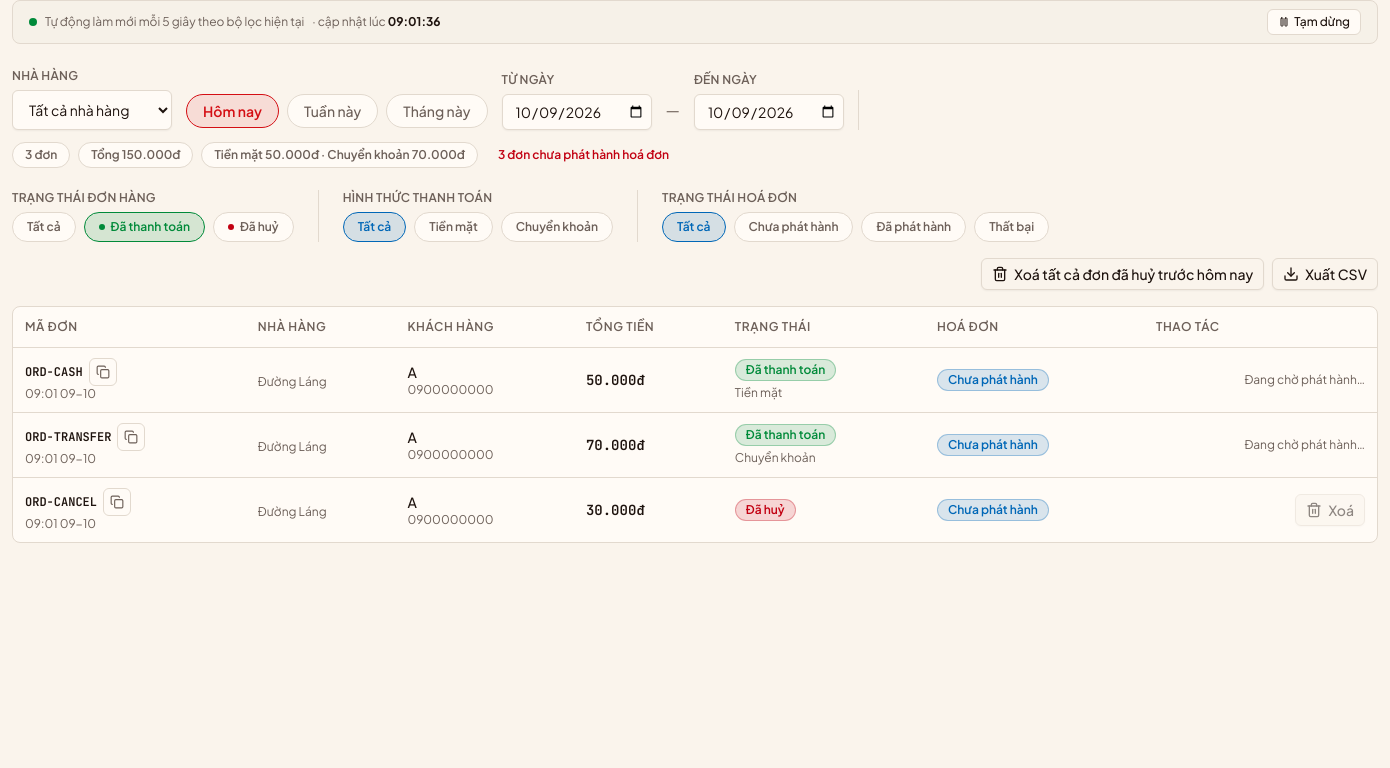
Scenario: AccountingPage enterprise accounting › filters paid orders by payment method (Tiền mặt / Chuyển khoản) and shows the method under the status
Expected: the text "ORD-CASH" is shown, [25, 364, 83, 380]
Expected: the text "ORD-CANCEL" is shown, [25, 494, 97, 510]
Click the button with test id "accounting.payment_method_filter.transfer". click: (557, 227)
box: [501, 212, 613, 242]
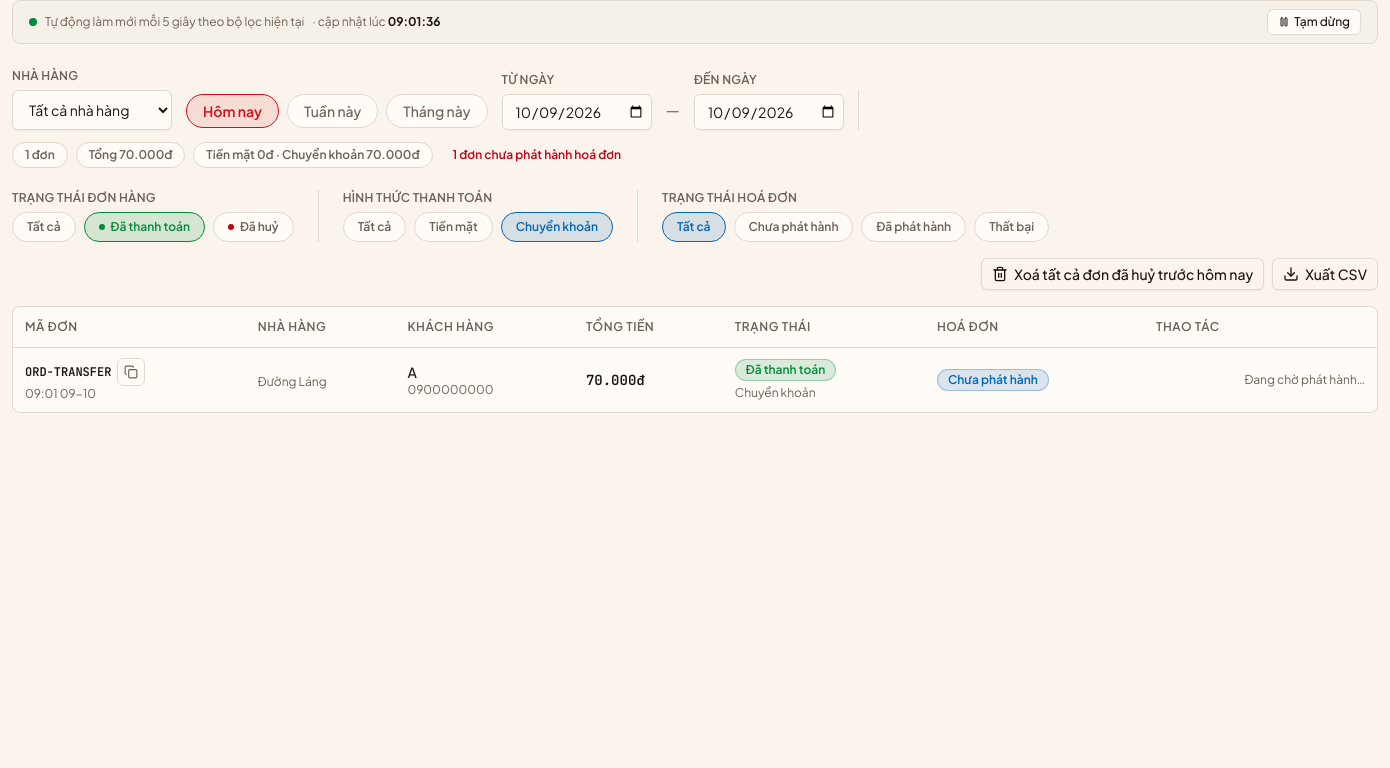
Expected: the text "ORD-TRANSFER" is shown, [25, 364, 111, 380]
Expected: the text "ORD-CASH" is gone
Expected: the text "ORD-CANCEL" is gone
Click the button with test id "accounting.payment_method_filter.cash". click: (454, 227)
box: [414, 212, 493, 242]
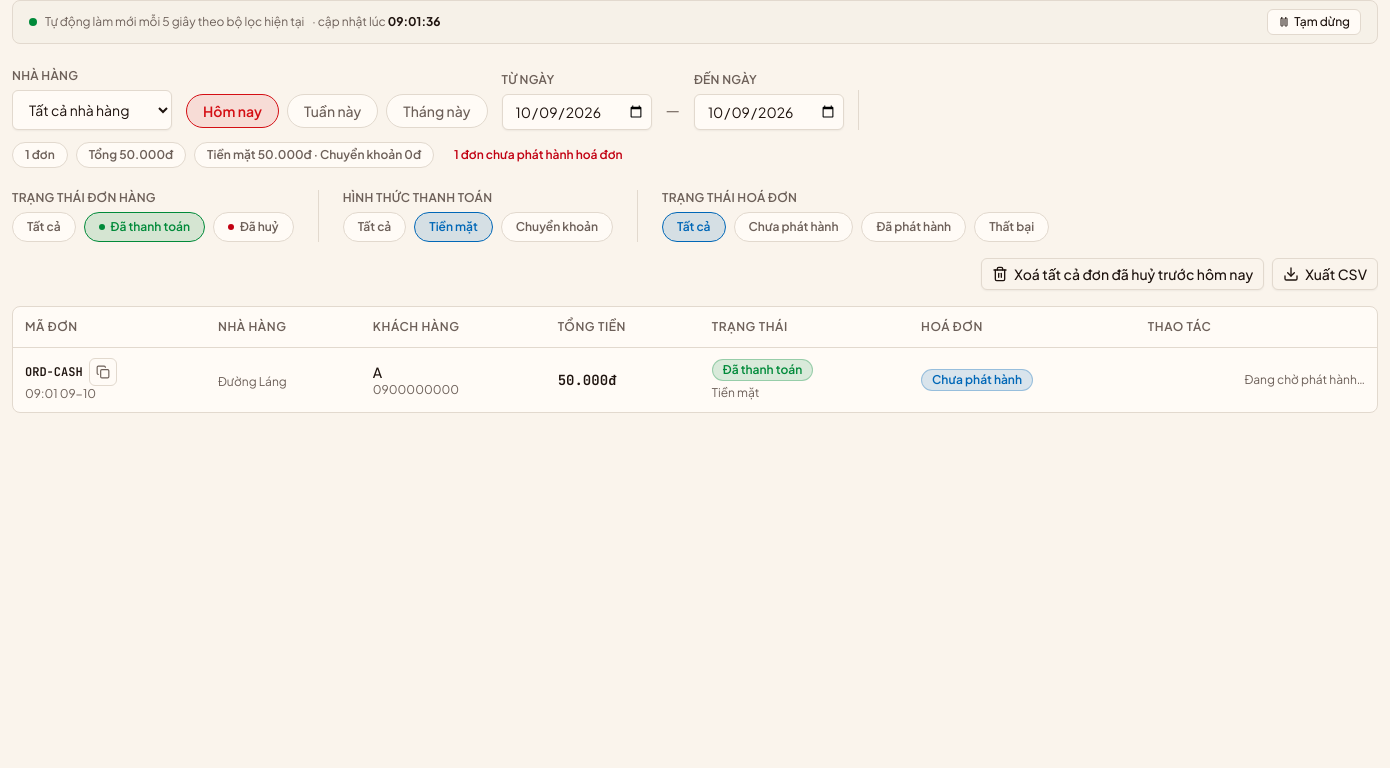
Expected: the text "ORD-CASH" is shown, [25, 364, 83, 380]
Expected: the text "ORD-TRANSFER" is gone
